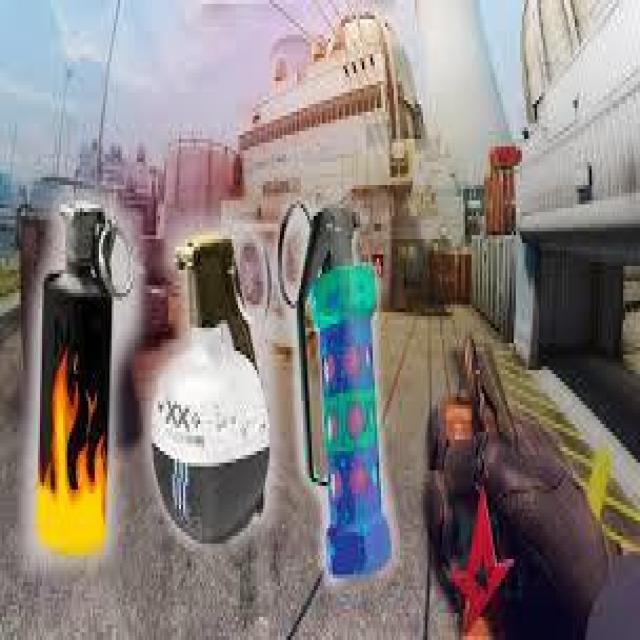grenade: (290, 185, 408, 578), (150, 210, 282, 546), (37, 201, 117, 559), (428, 328, 519, 598)
